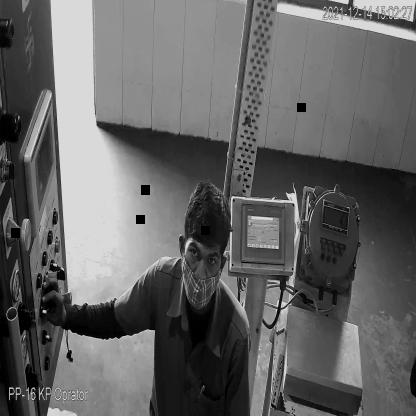no_goggles: (184, 242, 221, 270)
